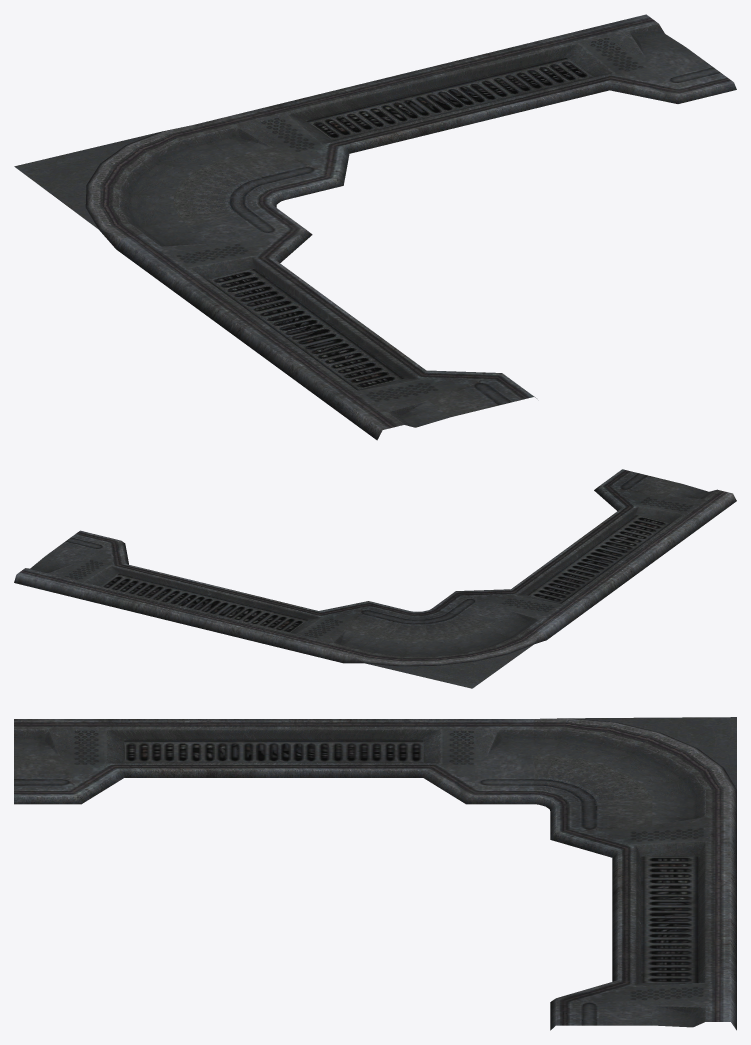
Rendered from living_area_welder_metal_thick_concave.dae.
3 views of the same model, one above another, from view 1: azimuth 30°, elevation 25°; view 2: azimuth 150°, elevation 25°; view 3: azimuth 270°, elevation 25° (orthographic). The views are drawn at different scales.
Visible parts, largest first — view 1: concave_short; view 2: concave_short; view 3: concave_short.
Part boxes in pixels (x1,y1,x2,y2): concave_short: (14, 14, 736, 440); concave_short: (14, 469, 736, 688); concave_short: (14, 717, 736, 1030).
Size of the model in its own units: 2 by 0.0349 by 2.
